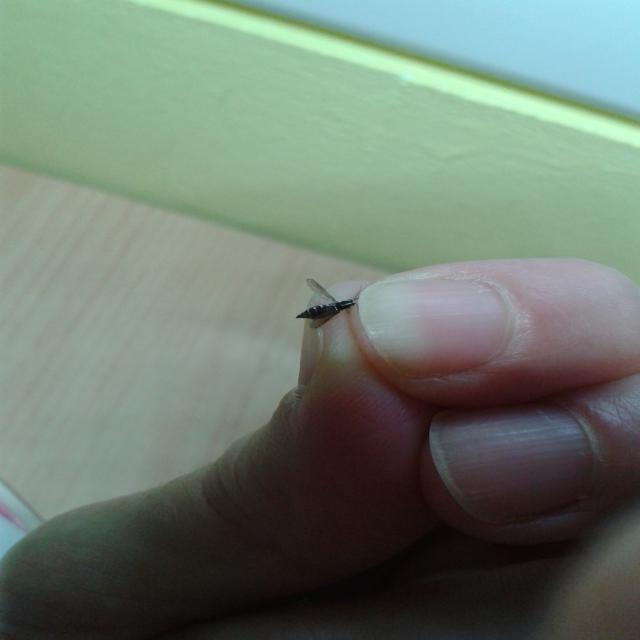albopictus: (292, 272, 371, 336)
